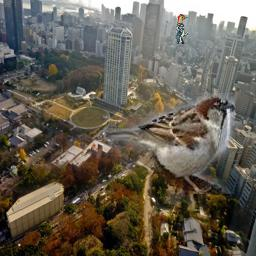Sparrow: (105, 94, 236, 195)
Woodpecker: (176, 14, 189, 44)
